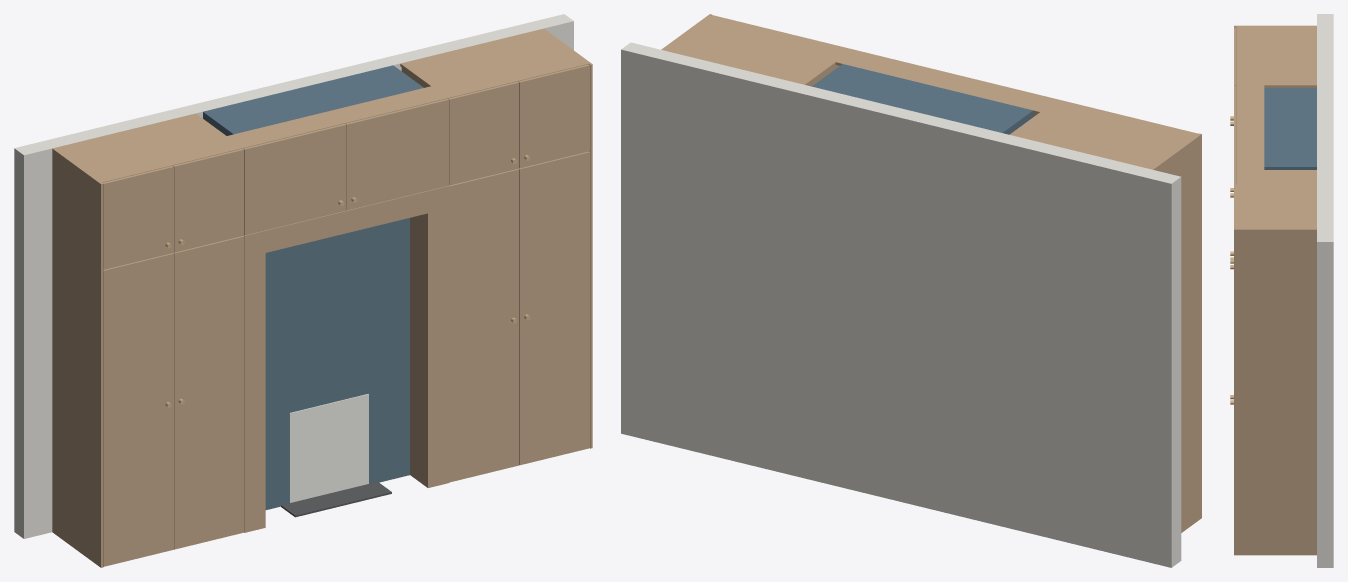
The model's file is chimney-breast-wardrobes-palmers-green.glb.
3 renders of one model, left to right at view 1: azimuth 30°, elevation 25°; view 2: azimuth 150°, elevation 25°; view 3: azimuth 270°, elevation 25°, orthographic. The views are drawn at different scales.
Parts seen in each view (by area): view 1: Room: Chimney breast, Left wardrobe: Door, right (hinged right), Left wardrobe: Door, left (hinged left), Right wardrobe: Door, right (hinged right), Right wardrobe: Door, left (hinged left), Room: Back wall, Left wardrobe: End panel, Bridge over the chimney: Top door, left (hinged left), Bridge over the chimney: Top door, right (hinged right), Room: Fireplace opening, Bridge over the chimney: Stile, right, Right wardrobe: Top box: top (+11 smaller); view 2: Room: Back wall, Left wardrobe: End panel, Right wardrobe: Top box: top, Left wardrobe: Top box: top, Room: Chimney breast, Bridge over the chimney: Top box: top; view 3: Right wardrobe: End panel, Room: Back wall, Left wardrobe: Top box: top, Right wardrobe: Top box: top, Room: Chimney breast, Bridge over the chimney: Top box: top, Left wardrobe: End panel.
Boxes of the visible parts, x1,y1,x2,y2 form: Room: Chimney breast: [203, 65, 423, 509]; Left wardrobe: Door, right (hinged right): [173, 236, 244, 549]; Left wardrobe: Door, left (hinged left): [103, 253, 173, 566]; Right wardrobe: Door, right (hinged right): [519, 151, 589, 465]; Right wardrobe: Door, left (hinged left): [449, 168, 519, 482]; Room: Back wall: [14, 14, 573, 538]; Left wardrobe: End panel: [52, 148, 103, 567]; Bridge over the chimney: Top door, left (hinged left): [243, 124, 346, 235]; Bridge over the chimney: Top door, right (hinged right): [346, 98, 448, 210]; Room: Fireplace opening: [289, 394, 368, 502]; Bridge over the chimney: Stile, right: [426, 186, 449, 487]; Right wardrobe: Top box: top: [400, 29, 588, 98]; Room: Back wall: [621, 42, 1181, 567]; Left wardrobe: End panel: [1151, 133, 1201, 532]; Right wardrobe: Top box: top: [664, 16, 851, 85]; Left wardrobe: Top box: top: [1009, 100, 1197, 168]; Room: Chimney breast: [812, 64, 1033, 134]; Bridge over the chimney: Top box: top: [835, 50, 1056, 113]; Right wardrobe: End panel: [1234, 228, 1316, 555]; Room: Back wall: [1317, 14, 1333, 567]; Left wardrobe: Top box: top: [1236, 26, 1316, 87]; Right wardrobe: Top box: top: [1236, 170, 1316, 228]; Room: Chimney breast: [1264, 88, 1316, 169]; Bridge over the chimney: Top box: top: [1236, 85, 1264, 169]; Left wardrobe: End panel: [1234, 25, 1316, 183].
Size of the model in its own units: 3.9 by 2.6 by 0.745.
